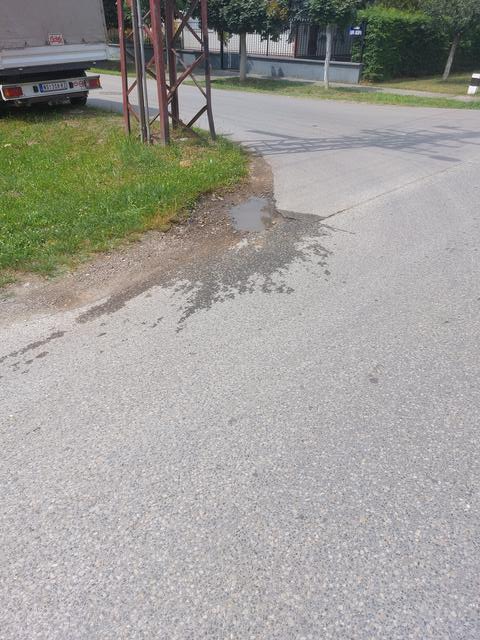pothole: (183, 158, 316, 274)
